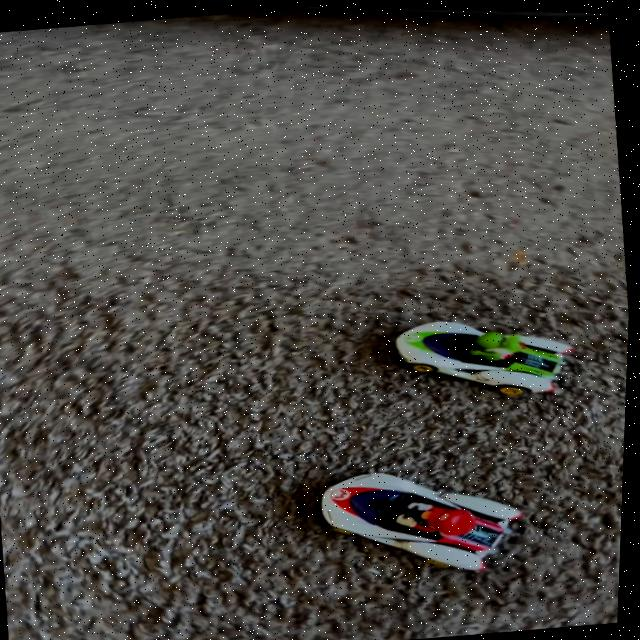mario: (304, 440, 551, 593)
yoshi: (375, 284, 600, 411)
